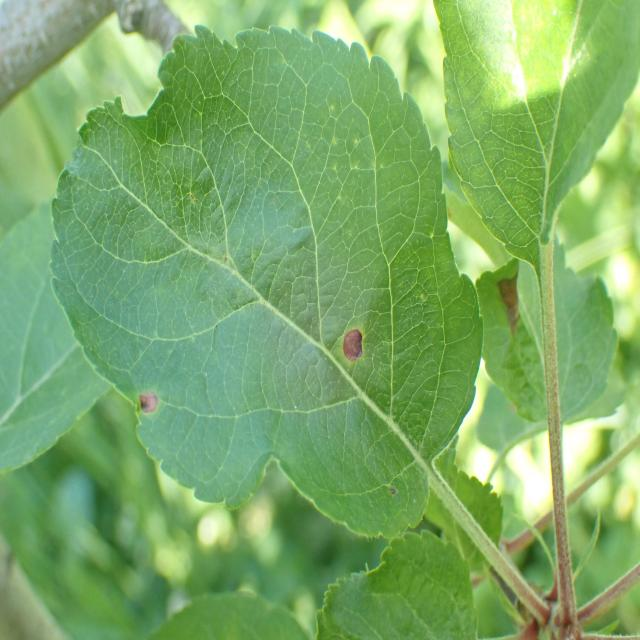Black Rot: (495, 267, 534, 333), (128, 378, 170, 436), (329, 325, 375, 374)
